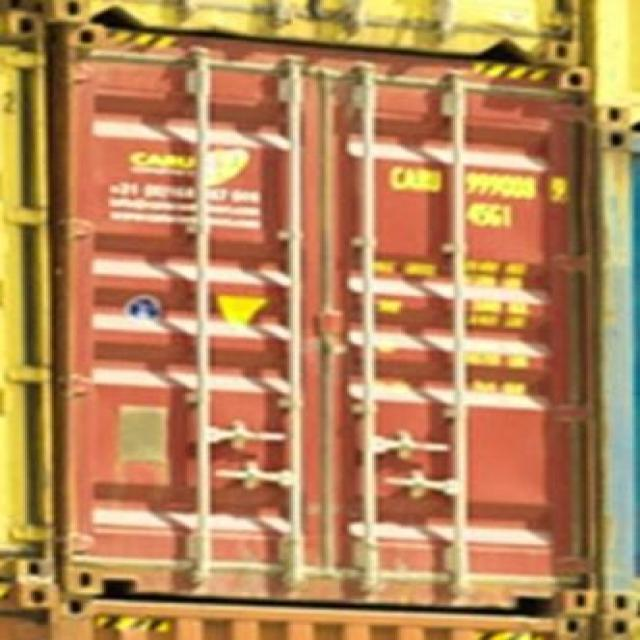ISO: (467, 204, 517, 230)
container_number: (390, 167, 570, 203)
